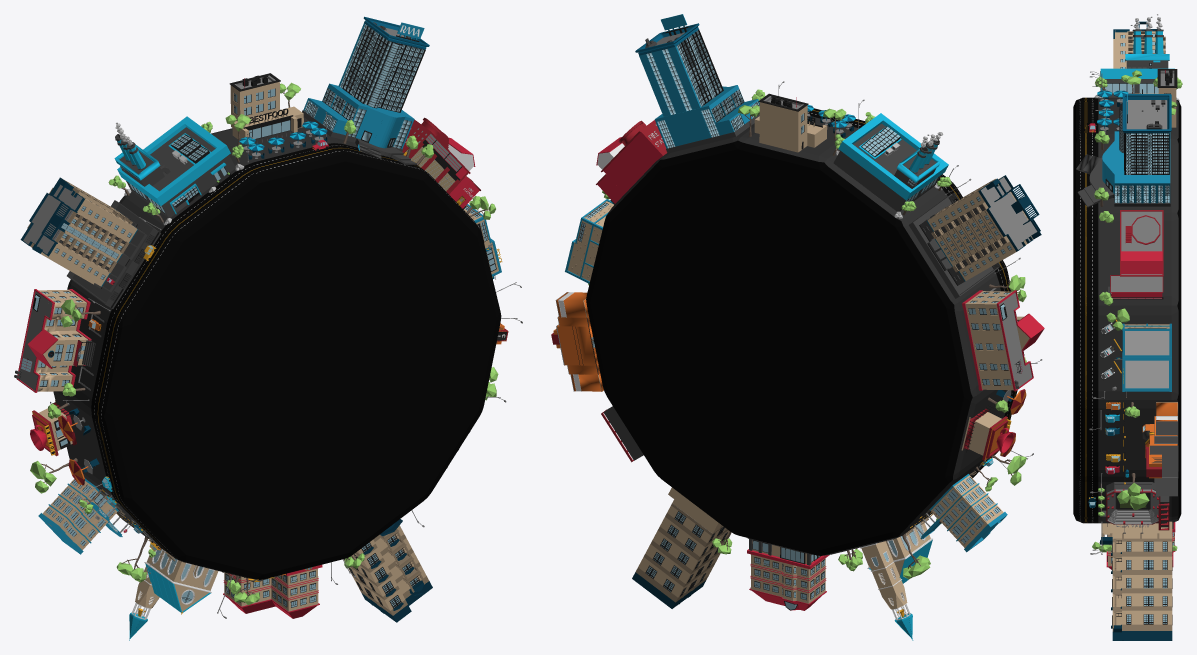
The model's file is RMA_Full_CIty_Round.glb.
3 views of the same model, side by side, from view 1: azimuth 30°, elevation 25°; view 2: azimuth 150°, elevation 25°; view 3: azimuth 270°, elevation 25° (orthographic). The views are drawn at different scales.
Visible parts, largest first — view 1: Sphere, RMA Building, Apartment Building 1, Factory, Bank, Appartment building 2, Best Foods, Church, Hospital, Fire station, Appartment Building 3, Coffee Shop (+1 smaller); view 2: Sphere, RMA Building, Apartment Building 1, Factory, Appartment building 2, Bank, Appartment Building 3, Hospital, Best Foods, Cinema, Church, Fire station (+3 smaller); view 3: Sphere, RMA Building, Appartment building 2, Fire station, Police Station, Cinema, Factory, Stadium, Best Foods, Apartment Building 1, World.031, World.023 (+2 smaller).
Boxes of the visible parts, box(x1,y1,x2,y2) form: Sphere: box(53, 117, 501, 579); RMA Building: box(302, 16, 429, 164); Apartment Building 1: box(20, 177, 160, 308); Factory: box(108, 116, 244, 224); Bank: box(14, 289, 95, 392); Appartment building 2: box(343, 519, 432, 622); Best Foods: box(229, 73, 327, 159); Church: box(129, 547, 218, 640); Hospital: box(38, 478, 150, 554); Fire station: box(402, 117, 480, 209); Appartment Building 3: box(223, 564, 322, 618); Coffee Shop: box(30, 400, 99, 485); Sphere: box(586, 108, 1024, 555); RMA Building: box(635, 14, 759, 153); Apartment Building 1: box(909, 175, 1041, 298); Factory: box(832, 112, 951, 218); Appartment building 2: box(632, 487, 731, 608); Bank: box(962, 290, 1044, 391); Appartment Building 3: box(747, 538, 829, 610); Hospital: box(910, 461, 1007, 552); Best Foods: box(754, 93, 855, 152); Cinema: box(551, 292, 603, 391); Church: box(860, 522, 932, 640); Fire station: box(596, 120, 667, 204); Sphere: box(1073, 97, 1181, 523); RMA Building: box(1076, 93, 1171, 207); Appartment building 2: box(1100, 521, 1172, 640); Fire station: box(1108, 210, 1163, 299); Police Station: box(1115, 323, 1171, 397); Cinema: box(1123, 402, 1178, 496); Factory: box(1092, 14, 1182, 101); Stadium: box(1102, 482, 1169, 533); Best Foods: box(1097, 69, 1177, 132); Apartment Building 1: box(1113, 21, 1165, 68); World.031: box(1117, 473, 1149, 510); World.023: box(1106, 308, 1129, 330).
Size of the model in its own units: 5.47 by 6.36 by 1.14.
Materials: 31 (2 with a texture image).
